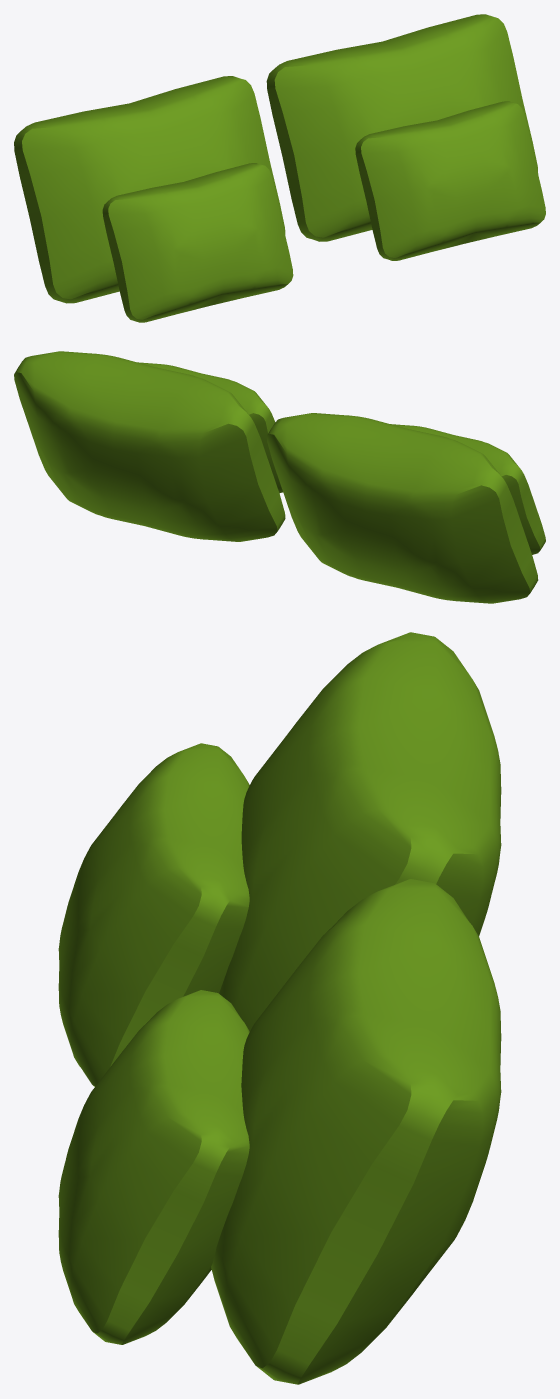
Rendered from 3_podyshki.fbx.
The picture shows the model from 3 angles, top to bottom: view 1: azimuth 30°, elevation 25°; view 2: azimuth 150°, elevation 25°; view 3: azimuth 270°, elevation 25°; orthographic projection. The views are drawn at different scales.
Parts seen in each view (by area): view 1: Cube.025; view 2: Cube.025; view 3: Cube.025.
Boxes of the visible parts, bbox=[...] form: Cube.025: bbox=[14, 14, 545, 322]; Cube.025: bbox=[14, 351, 545, 603]; Cube.025: bbox=[58, 632, 501, 1384].
Bounding box in the file's own units: 74.84 × 23.95 × 29.59.
